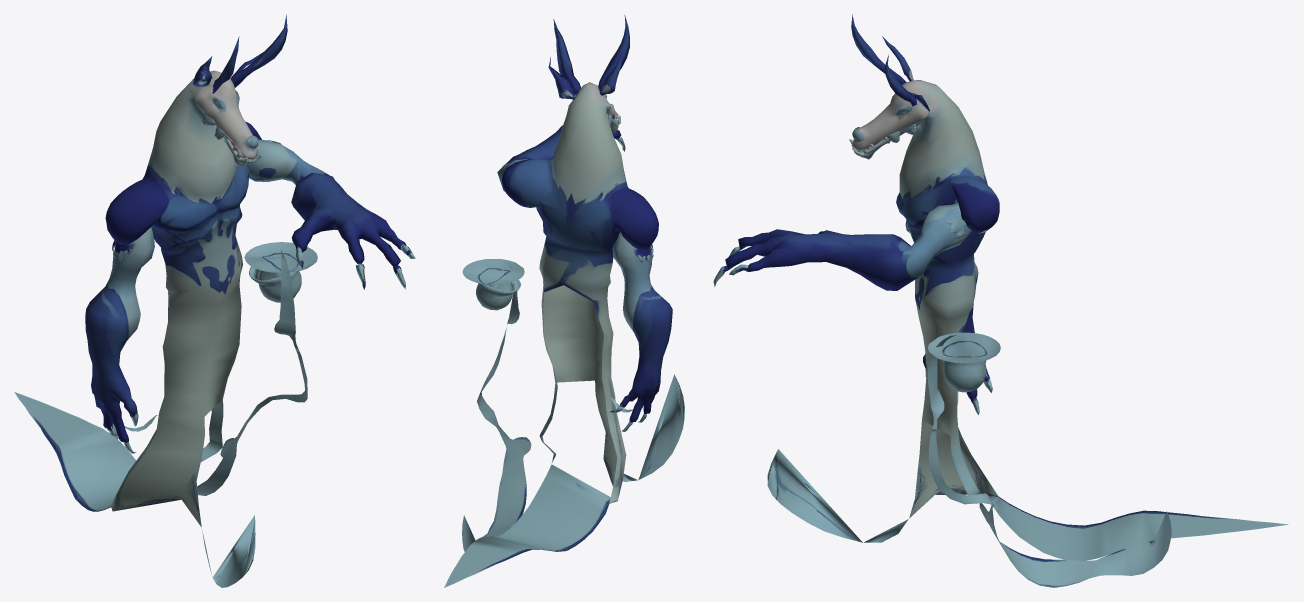
File: Estuata.glb
3 renders of one model, left to right at view 1: azimuth 30°, elevation 25°; view 2: azimuth 150°, elevation 25°; view 3: azimuth 270°, elevation 25°, orthographic. The views are drawn at different scales.
Parts seen in each view (by area): view 1: tripo_node_73c30fcf-d74f-4154-8d0f-1aff43b86487; view 2: tripo_node_73c30fcf-d74f-4154-8d0f-1aff43b86487; view 3: tripo_node_73c30fcf-d74f-4154-8d0f-1aff43b86487.
Part boxes in pixels (left/top/right/bottom): tripo_node_73c30fcf-d74f-4154-8d0f-1aff43b86487: left=14, top=14, right=415, bottom=587; tripo_node_73c30fcf-d74f-4154-8d0f-1aff43b86487: left=444, top=15, right=684, bottom=587; tripo_node_73c30fcf-d74f-4154-8d0f-1aff43b86487: left=713, top=14, right=1288, bottom=587.
Bounding box in the file's own units: 0.4434 × 0.998 × 0.9551.
1 material, 1 textured.
